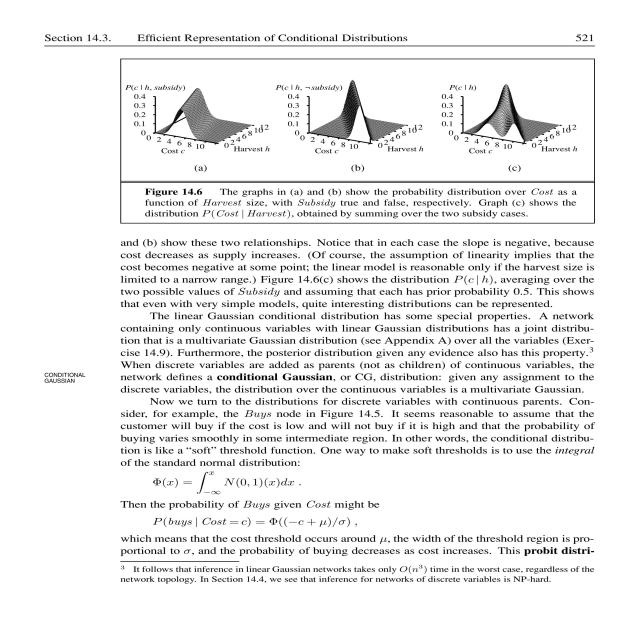diagram: (42, 49, 640, 231)
